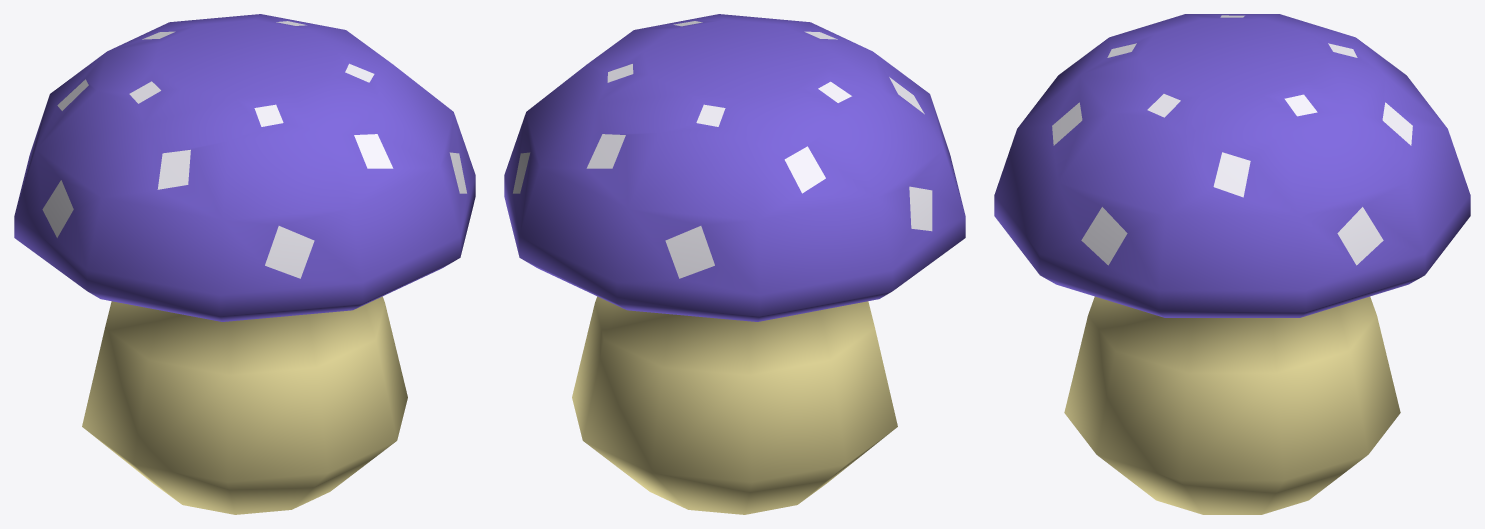
File: Mushroom.fbx
3 renders of one model, left to right at view 1: azimuth 30°, elevation 25°; view 2: azimuth 150°, elevation 25°; view 3: azimuth 270°, elevation 25°, orthographic.
Visible parts, largest first — view 1: Cylinder.008; view 2: Cylinder.008; view 3: Cylinder.008.
Part boxes in pixels (x1=…): Cylinder.008: x1=14, y1=14, x2=475, y2=514; Cylinder.008: x1=504, y1=14, x2=965, y2=514; Cylinder.008: x1=994, y1=14, x2=1470, y2=514.
Size of the model in its own units: 29.45 by 30.16 by 30.97.
